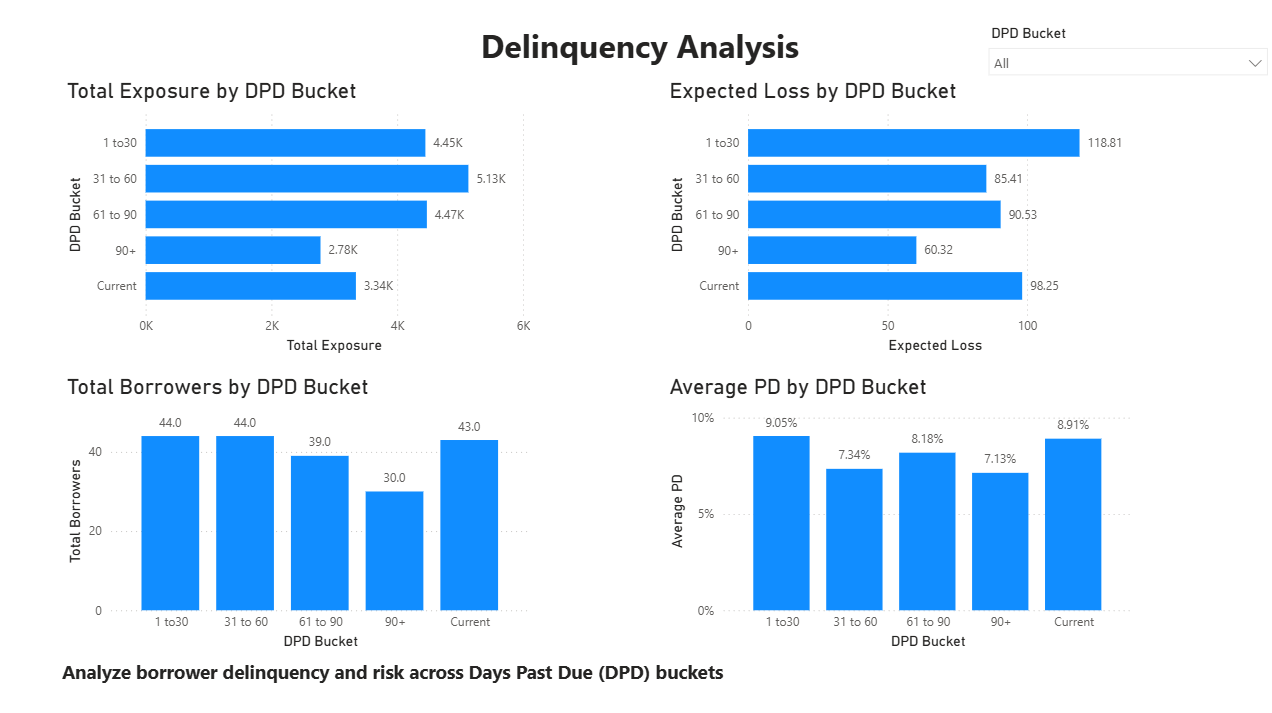

Layout of this report page (visuals, bound fields, positions):
{"tool":"powerbi","page":{"name":"Delinquency Analysis","canvas":[1280,720],"ordinal":3},"visuals":[{"type":"barChart","fields":{"Category":["Credit_Risk_Portfolio.DPD_Bucket"],"Y":["Sum(Credit_Risk_Portfolio.EAD)"]},"box":[64.8,79.5,473.2,280],"z":0},{"type":"barChart","fields":{"Category":["Credit_Risk_Portfolio.DPD_Bucket"],"Y":["Sum(Credit_Risk_Portfolio.Expected_Loss)"]},"box":[667.7,79.5,473.2,280],"z":1000},{"type":"columnChart","fields":{"Category":["Credit_Risk_Portfolio.DPD_Bucket"],"Y":["Credit_Risk_Portfolio.Total Borrowers"]},"box":[64.8,376.6,473.2,280],"z":2000},{"type":"columnChart","fields":{"Category":["Credit_Risk_Portfolio.DPD_Bucket"],"Y":["Avg(Credit_Risk_Portfolio.PD)"]},"box":[667.7,376.6,473.2,280],"z":3000},{"type":"textbox","box":[479.4,20.8,377.9,58.7],"z":4000},{"type":"slicer","fields":{"Values":["Credit_Risk_Portfolio.DPD_Bucket"]},"box":[980.7,20.8,299.6,58.7],"z":5000},{"type":"textbox","box":[0,656.7,791.2,46.5],"z":6000}]}

Visuals, with their boxes in screenshot pixels (x1, y1, x2, y2), scaled from the page's 1280x720 canvas onto the 1272x713 screenshot:
barChart - Credit_Risk_Portfolio.DPD_Bucket x Sum(Credit_Risk_Portfolio.EAD): Rect(64, 79, 535, 356)
barChart - Credit_Risk_Portfolio.DPD_Bucket x Sum(Credit_Risk_Portfolio.Expected_Loss): Rect(664, 79, 1134, 356)
columnChart - Credit_Risk_Portfolio.DPD_Bucket x Credit_Risk_Portfolio.Total Borrowers: Rect(64, 373, 535, 650)
columnChart - Credit_Risk_Portfolio.DPD_Bucket x Avg(Credit_Risk_Portfolio.PD): Rect(664, 373, 1134, 650)
textbox: Rect(476, 21, 852, 79)
slicer - Credit_Risk_Portfolio.DPD_Bucket: Rect(975, 21, 1271, 79)
textbox: Rect(0, 650, 786, 696)
